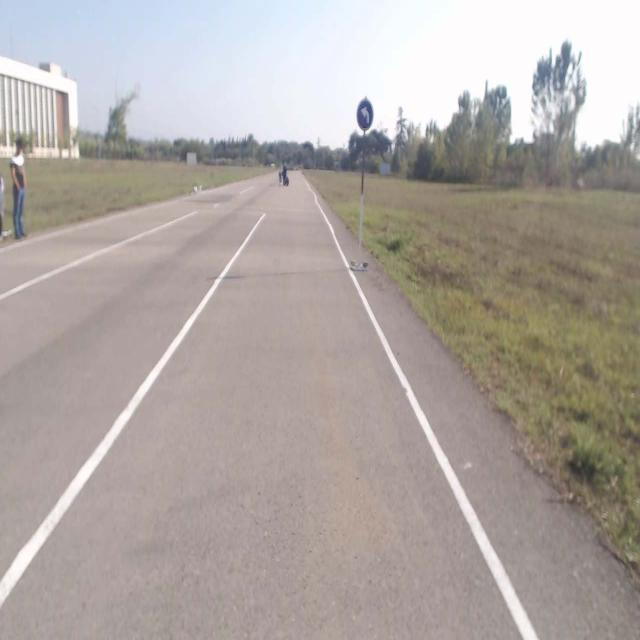sol: (356, 100, 374, 130)
